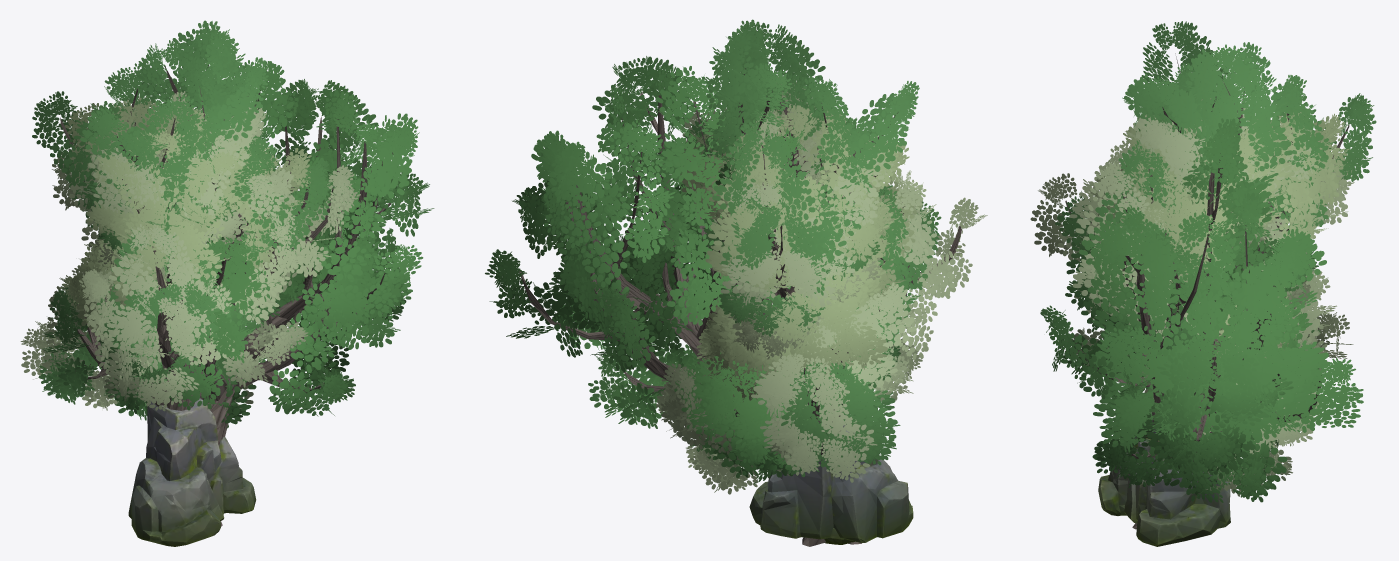
File: nature.glb
The picture shows the model from 3 angles, left to right: view 1: azimuth 30°, elevation 25°; view 2: azimuth 150°, elevation 25°; view 3: azimuth 270°, elevation 25°; orthographic projection. The views are drawn at different scales.
Parts seen in each view (by area): view 1: TwistedTree_1, TwistedTree_4, TwistedTree_3, TwistedTree_5, Rock_Big_1; view 2: TwistedTree_1, TwistedTree_4, TwistedTree_3, TwistedTree_5, Rock_Big_1; view 3: TwistedTree_1, TwistedTree_4, TwistedTree_3, TwistedTree_5, Rock_Big_1.
Boxes of the visible parts, x1,y1,x2,y2 form: TwistedTree_1: (102, 60, 434, 526); TwistedTree_4: (32, 20, 333, 429); TwistedTree_3: (20, 91, 360, 411); TwistedTree_5: (59, 96, 311, 409); Rock_Big_1: (128, 398, 256, 546); TwistedTree_1: (485, 56, 861, 546); TwistedTree_4: (681, 19, 941, 484); TwistedTree_3: (656, 77, 987, 494); TwistedTree_5: (680, 103, 920, 401); Rock_Big_1: (749, 411, 913, 542); TwistedTree_1: (1040, 118, 1363, 529); TwistedTree_4: (1055, 21, 1376, 474); TwistedTree_3: (1030, 99, 1354, 496); TwistedTree_5: (1089, 98, 1349, 358); Rock_Big_1: (1098, 412, 1230, 546).
Bounding box in the file's own units: 15.67 × 18.81 × 12.13.
Materials: 7 (7 with a texture image).
